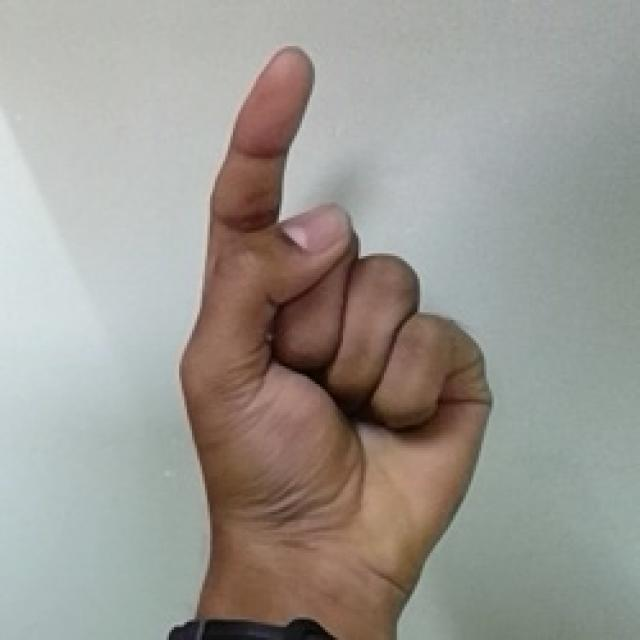Numeric-1: (182, 48, 491, 582)
